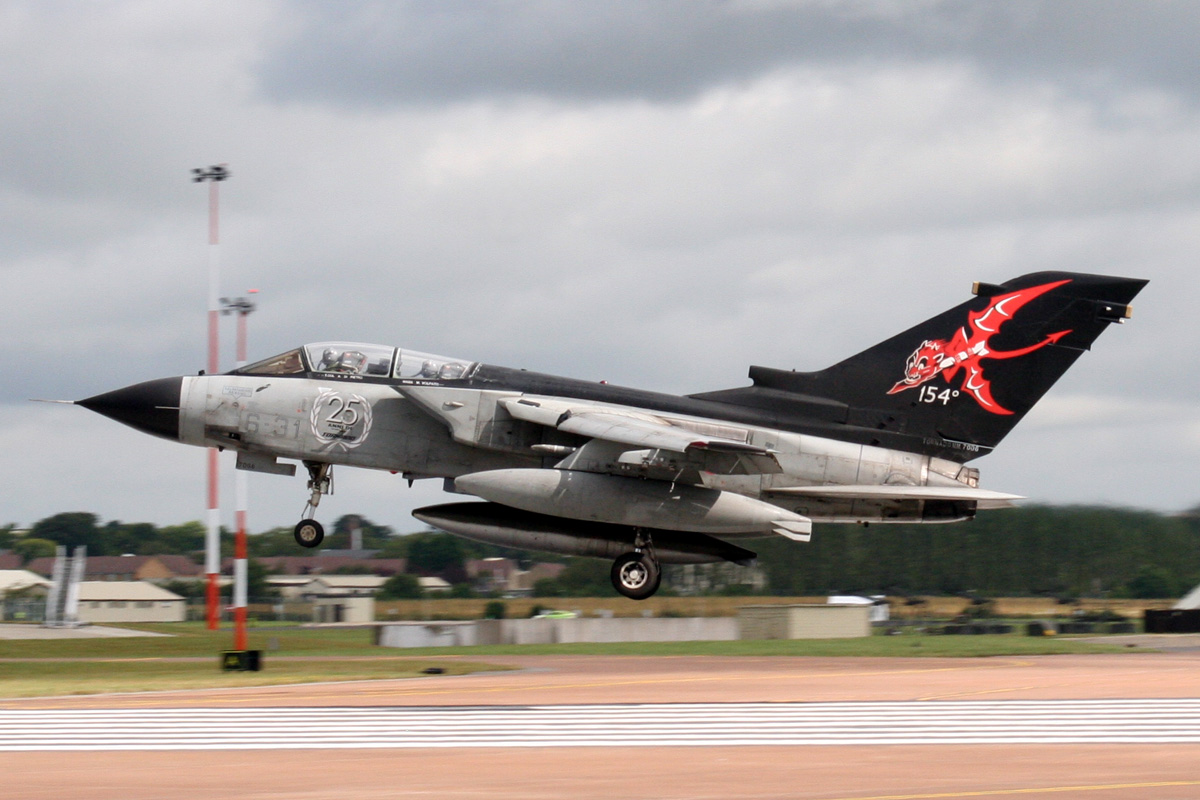Tornado: (27, 270, 1151, 601)
